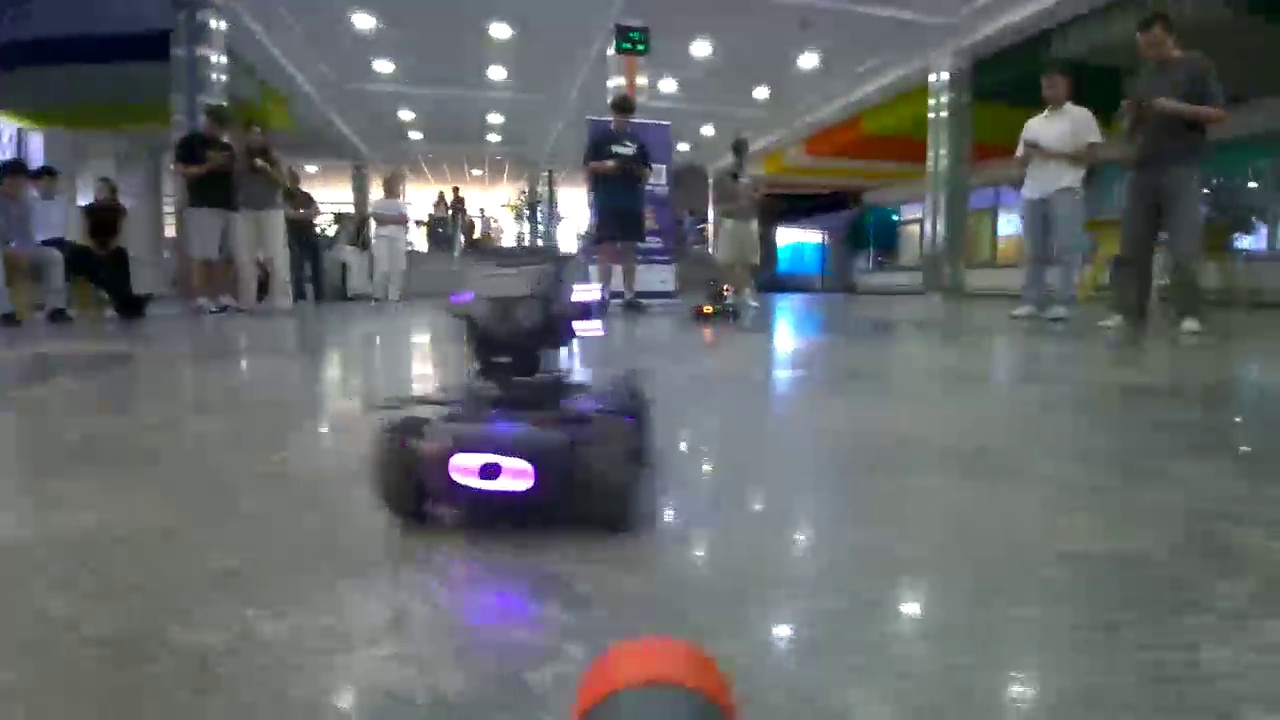robot: (382, 282, 646, 536), (692, 281, 738, 318)
